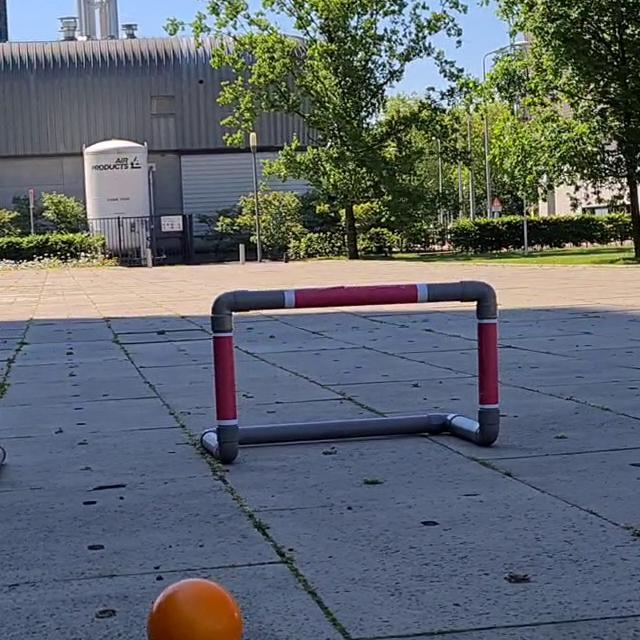ball: (145, 574, 247, 640)
